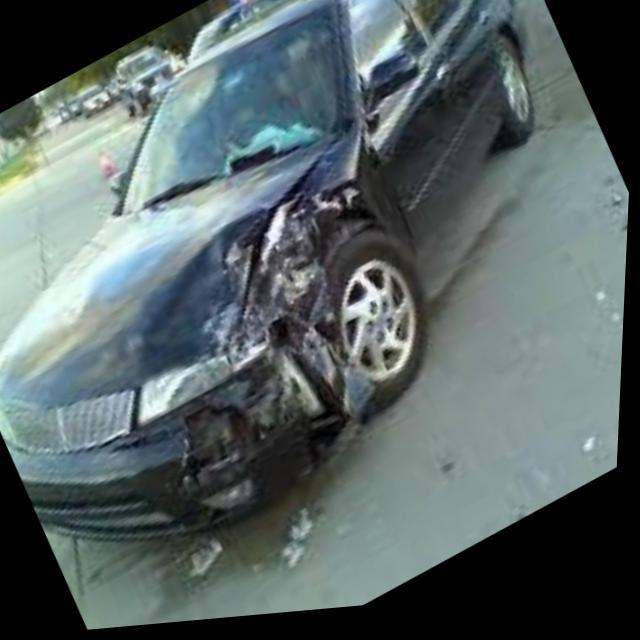dent: (143, 147, 405, 524)
